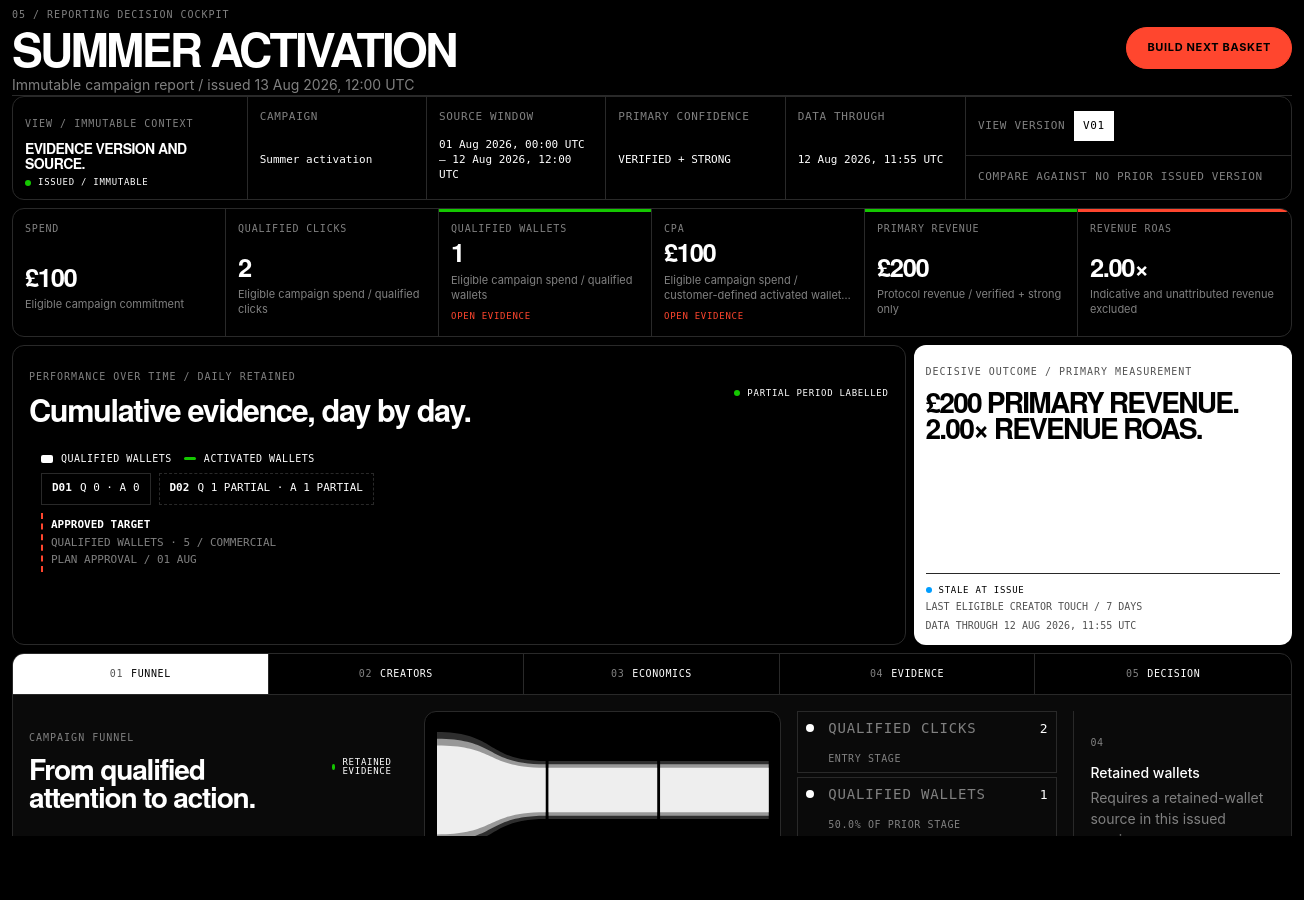
Test case: performance report › uses retained daily evidence and names approved, baseline and cohort references
The width and height of the screenshot is (1304, 900).
Expected: the text "PARTIAL PERIOD LABELLED" is shown, [734, 389, 889, 398]
Click the tab "05 Decision" at coordinates (1163, 674), box [1035, 654, 1291, 694]
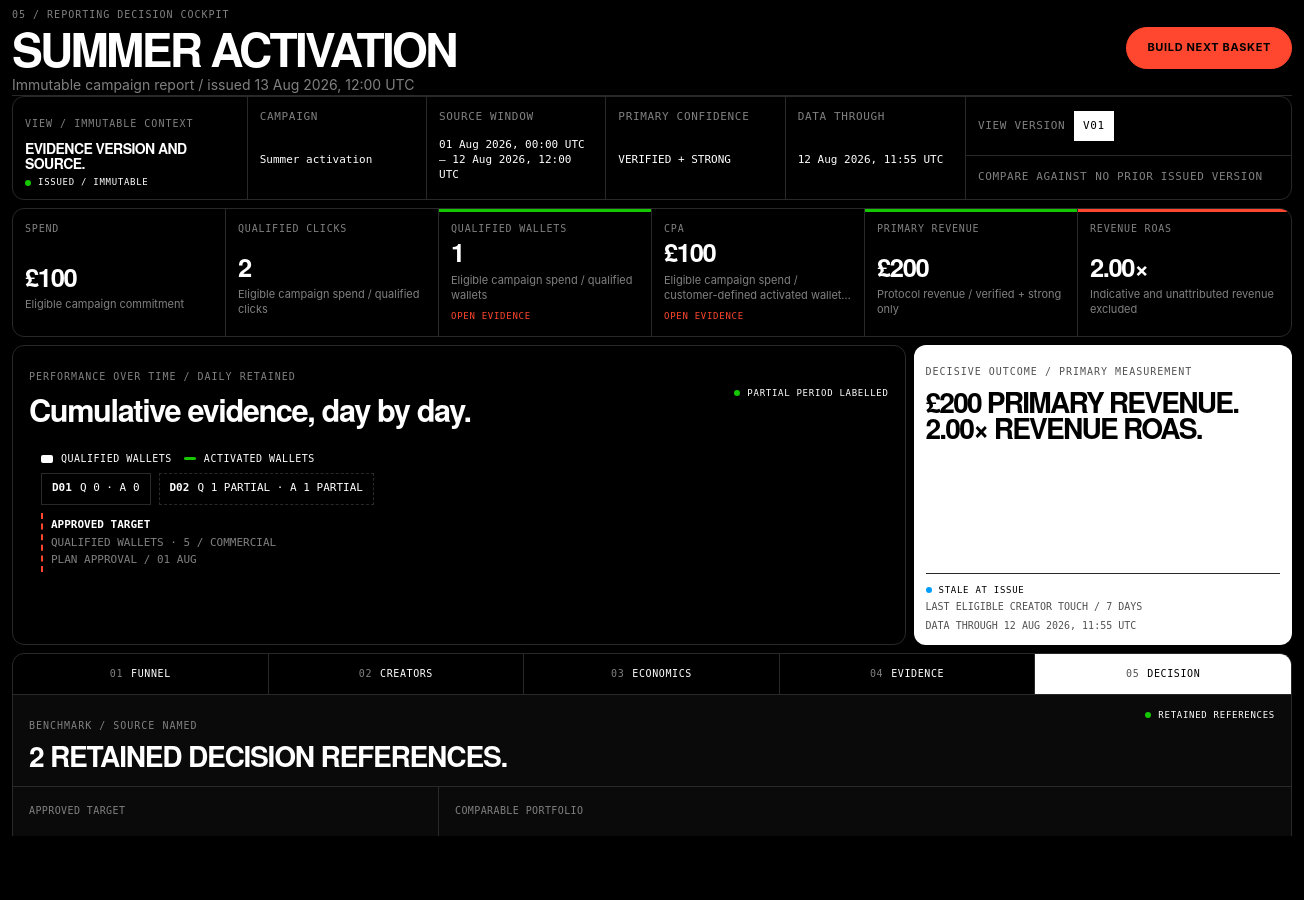
Result: the text "RETAINED REFERENCES" is shown at [1145, 711, 1275, 720]
Result: the text "COMPARABLE PORTFOLIO" is shown at [455, 805, 583, 816]
